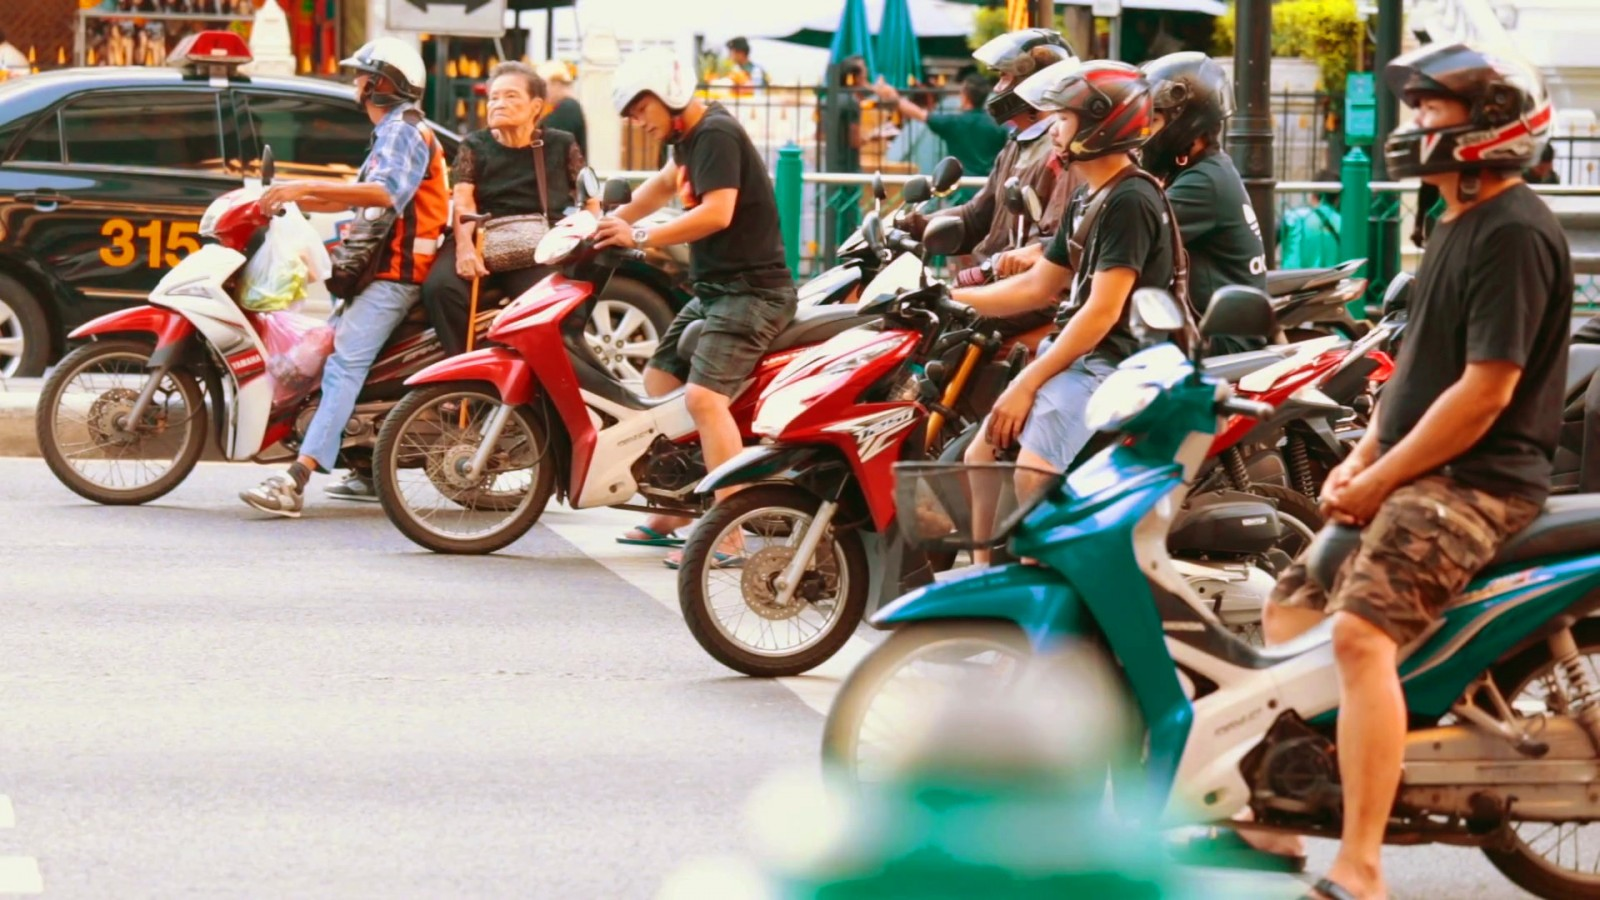helmet: (1371, 23, 1562, 213), (609, 41, 729, 186), (1016, 55, 1157, 167), (1136, 38, 1238, 169), (334, 23, 430, 138), (963, 32, 1073, 130)
